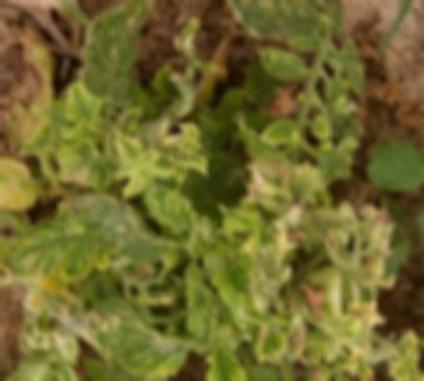Tomato leaf yellow virus: (0, 206, 119, 282), (95, 291, 191, 375), (79, 0, 150, 74), (206, 241, 264, 314), (141, 183, 203, 235), (253, 36, 315, 84), (61, 76, 109, 128), (211, 341, 251, 381), (218, 197, 272, 226), (258, 115, 304, 144), (310, 114, 339, 144), (115, 130, 141, 163)
